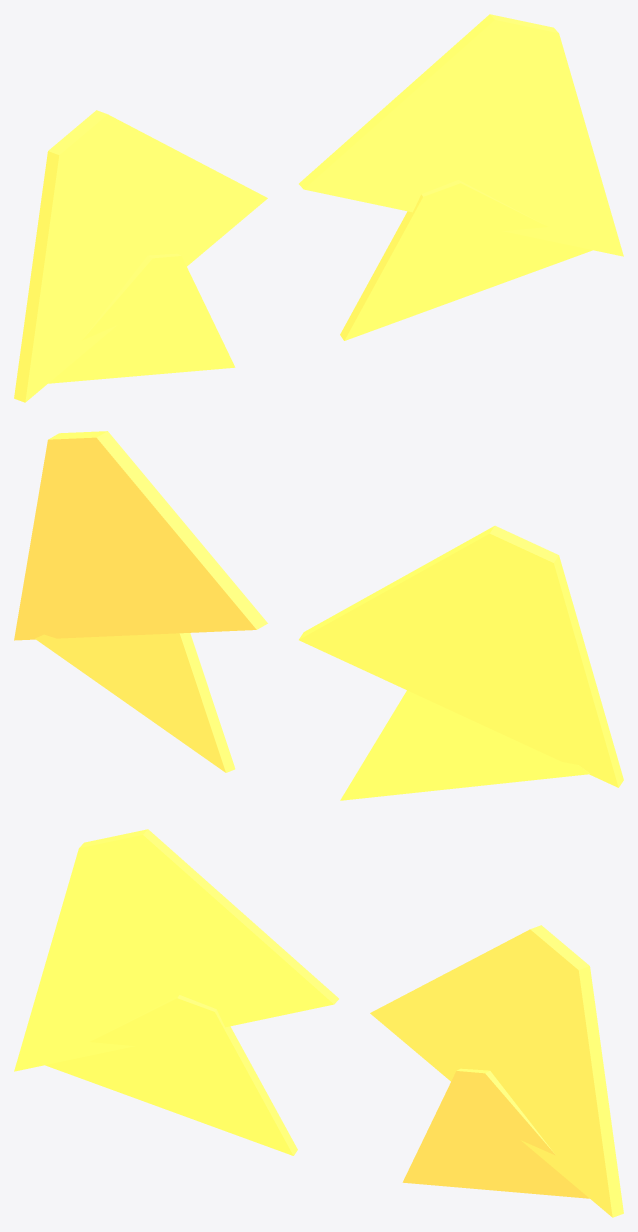
The model's file is wings_angel.glb.
3 views of the same model, one above another, from view 1: azimuth 30°, elevation 25°; view 2: azimuth 150°, elevation 25°; view 3: azimuth 330°, elevation 25° (orthographic).
Visible parts, largest first — view 1: wings_primary; view 2: wings_primary; view 3: wings_primary.
Part boxes in pixels (x1,y1,x2,y2): wings_primary: (14,14,623,402); wings_primary: (14,431,623,800); wings_primary: (14,829,623,1217).
Bounding box in the file's own units: 2.46 × 1.15 × 0.3313.
